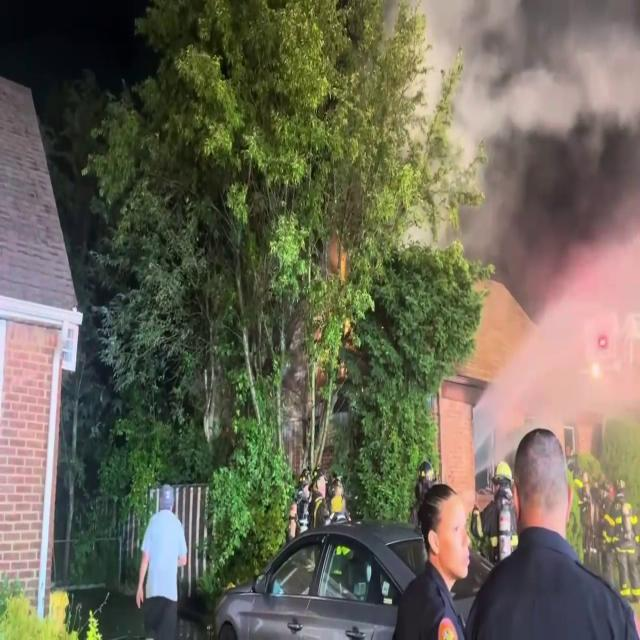Smoke: (411, 0, 640, 412)
